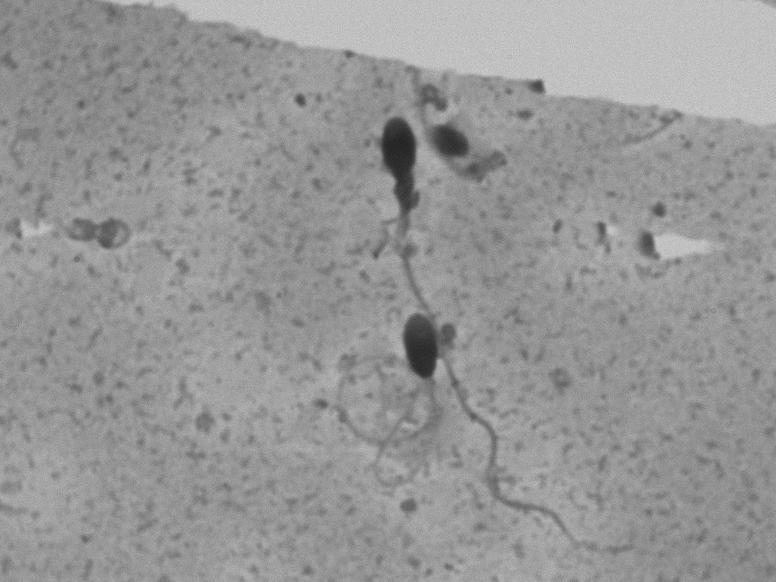Abnormal: (297, 110, 464, 300), (313, 303, 462, 484)
